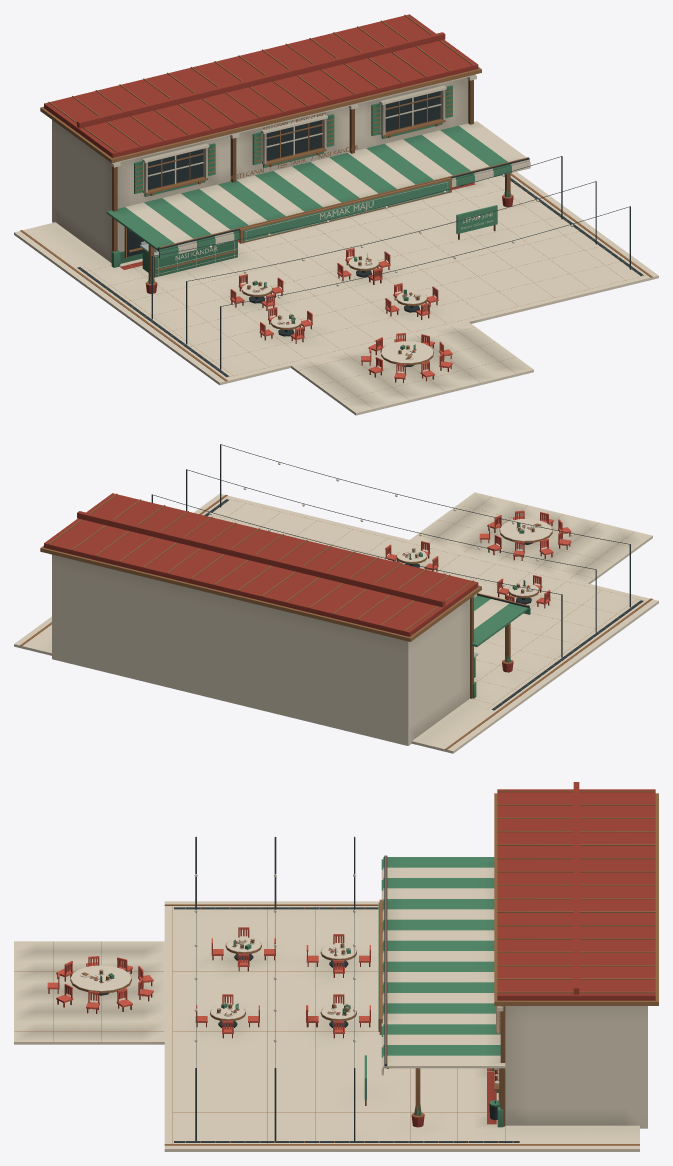
Rendered from LM_ENV_MamakMaju.glb.
The picture shows the model from 3 angles, top to bottom: view 1: azimuth 30°, elevation 25°; view 2: azimuth 150°, elevation 25°; view 3: azimuth 270°, elevation 25°; orthographic projection. The views are drawn at different scales.
Parts seen in each view (by area): view 1: LM_ENV_MamakMaju, LM_ENV_MamakMaju_Festoon; view 2: LM_ENV_MamakMaju, LM_ENV_MamakMaju_Festoon; view 3: LM_ENV_MamakMaju, LM_ENV_MamakMaju_Festoon.
Boxes of the visible parts, x1=… form: LM_ENV_MamakMaju: x1=14, y1=14, x2=658, y2=415; LM_ENV_MamakMaju_Festoon: x1=151, y1=156, x2=630, y2=369; LM_ENV_MamakMaju: x1=14, y1=492, x2=658, y2=753; LM_ENV_MamakMaju_Festoon: x1=151, y1=444, x2=630, y2=657; LM_ENV_MamakMaju: x1=14, y1=782, x2=658, y2=1151; LM_ENV_MamakMaju_Festoon: x1=194, y1=836, x2=356, y2=1140.
Bounding box in the file's own units: 37 × 9.95 × 40.7.
